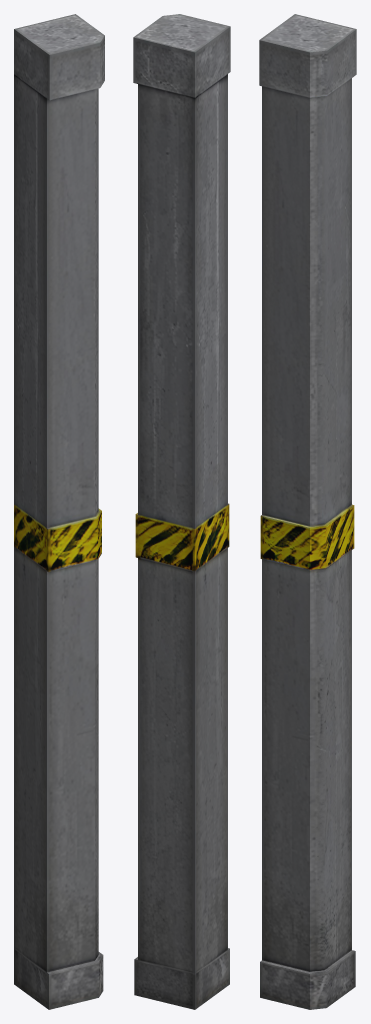
File: kit_wall_corner.glb
3 views of the same model, side by side, from view 1: azimuth 30°, elevation 25°; view 2: azimuth 150°, elevation 25°; view 3: azimuth 330°, elevation 25° (orthographic).
Visible parts, largest first — view 1: kit_wall_corner.001; view 2: kit_wall_corner.001; view 3: kit_wall_corner.001.
Part boxes in pixels (<box>): kit_wall_corner.001: <box>14,14,104,1009</box>; kit_wall_corner.001: <box>133,14,230,1009</box>; kit_wall_corner.001: <box>259,14,356,1009</box>.
Size of the model in its own units: 0.54 by 8 by 0.54.
1 material, 1 textured.
